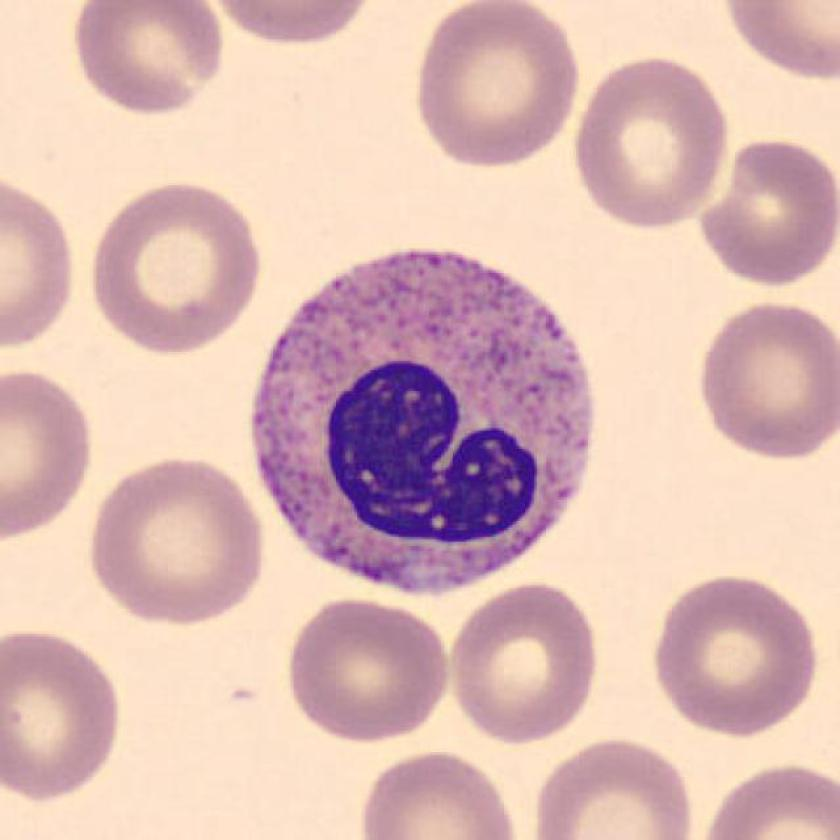neutrophil: (256, 248, 593, 593)
